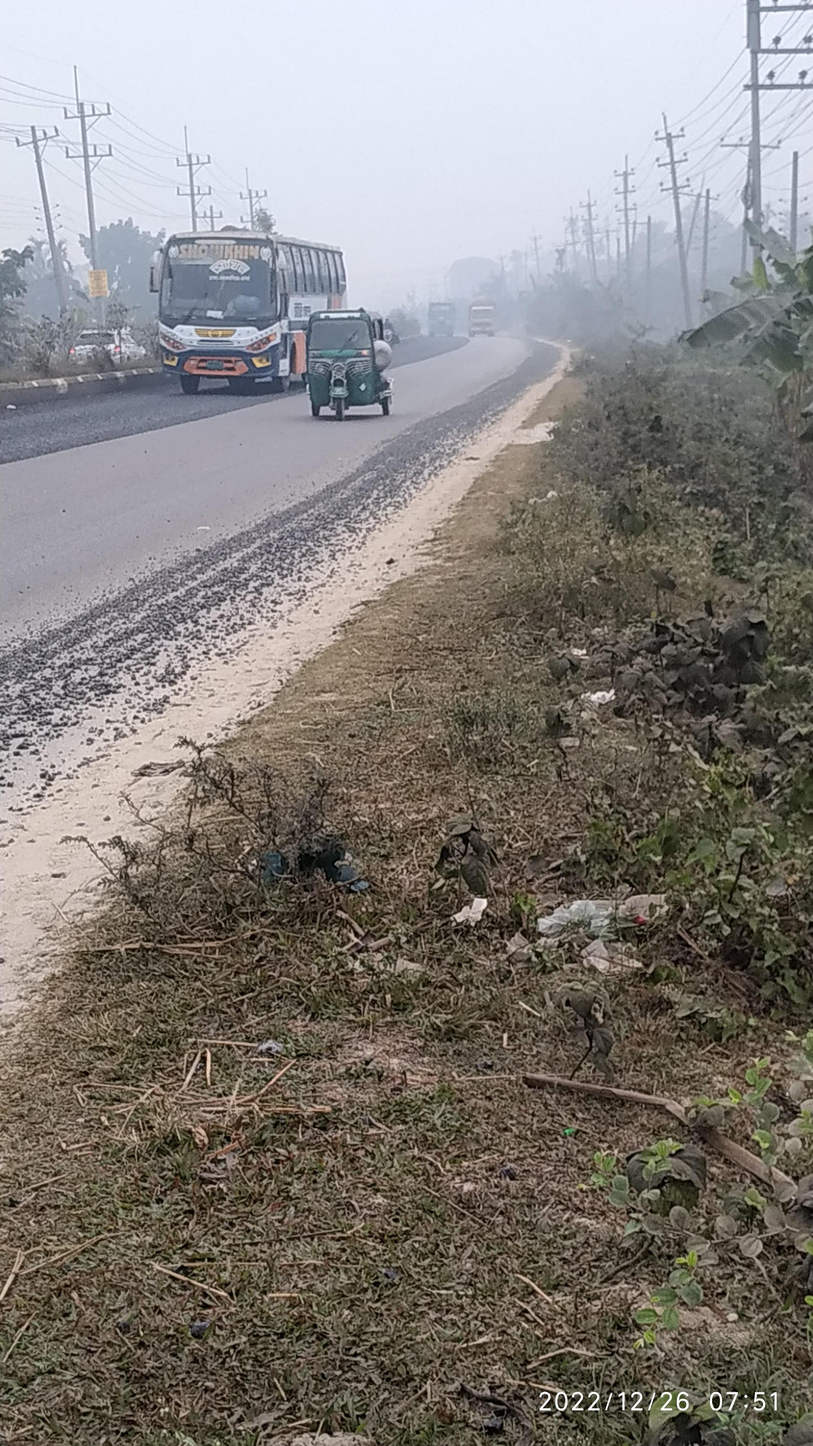Bus: (137, 212, 350, 381)
Car: (66, 310, 152, 384)
